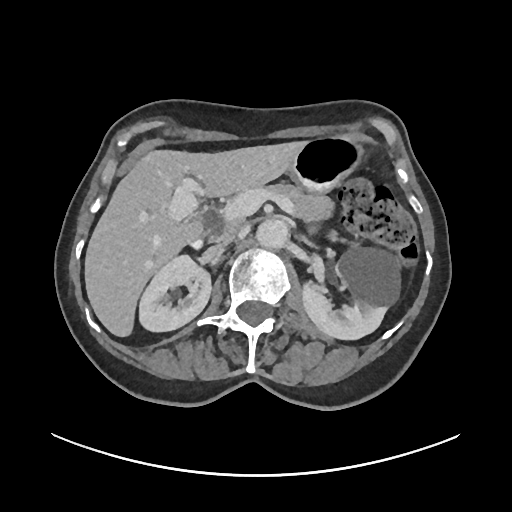Lesion: (336, 241, 405, 312)
